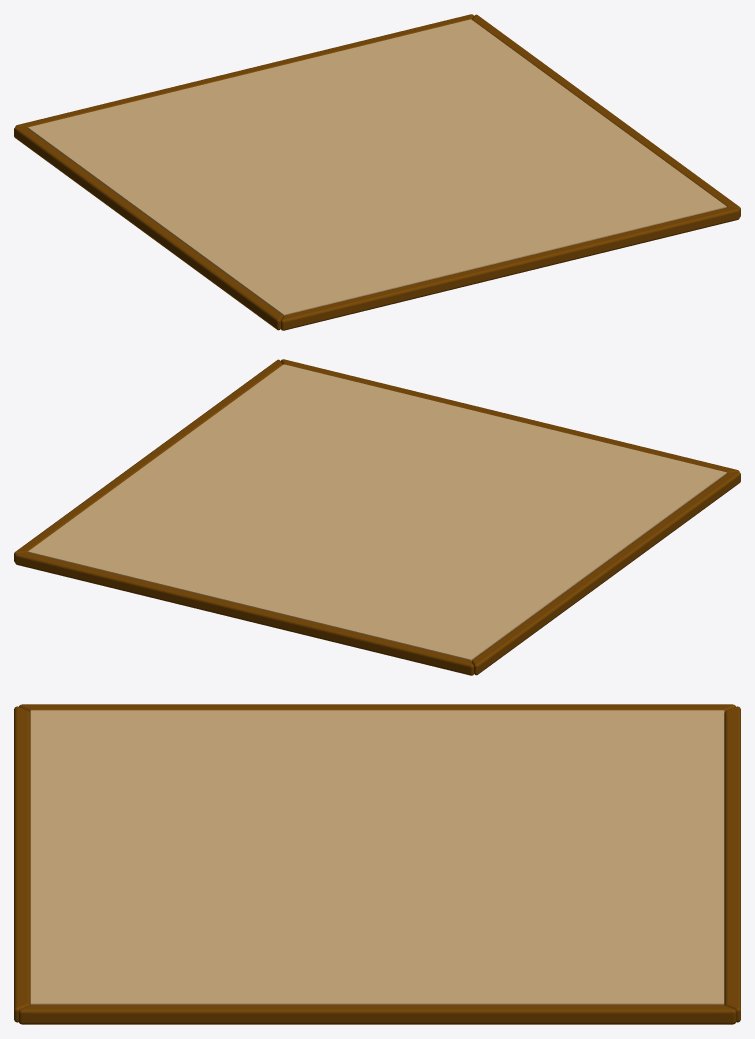
Rendered from PhotoFrame.fbx.
The picture shows the model from 3 angles, top to bottom: view 1: azimuth 30°, elevation 25°; view 2: azimuth 150°, elevation 25°; view 3: azimuth 270°, elevation 25°; orthographic projection. The views are drawn at different scales.
Parts seen in each view (by area): view 1: Object_3, Object_4, Object_5, Object_6, Object_7; view 2: Object_3, Object_6, Object_5, Object_4, Object_7; view 3: Object_3, Object_7, Object_4, Object_6, Object_5.
Boxes of the visible parts, x1,y1,x2,y2 form: Object_3: (28,19,726,316); Object_4: (281,207,739,330); Object_5: (14,127,283,330); Object_6: (15,14,473,128); Object_7: (472,14,740,217); Object_3: (28,364,726,661); Object_6: (15,552,473,675); Object_5: (471,472,740,675); Object_4: (281,359,739,473); Object_7: (14,359,282,562); Object_3: (30,710,724,1004); Object_7: (18,1004,736,1024); Object_4: (14,706,30,1022); Object_6: (724,706,740,1022); Object_5: (19,704,735,713).
Size of the model in its own units: 44 by 1 by 44.
